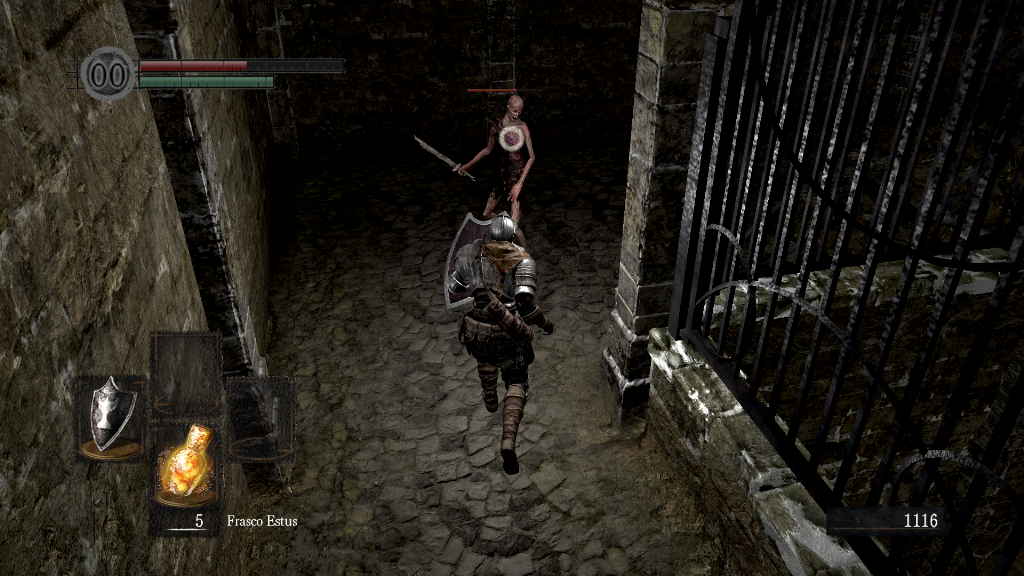health: (138, 58, 343, 71)
hollow: (454, 94, 539, 246)
humanity: (80, 45, 136, 102)
player: (442, 209, 558, 476)
souls: (825, 506, 945, 536)
stamina: (138, 74, 274, 88)
